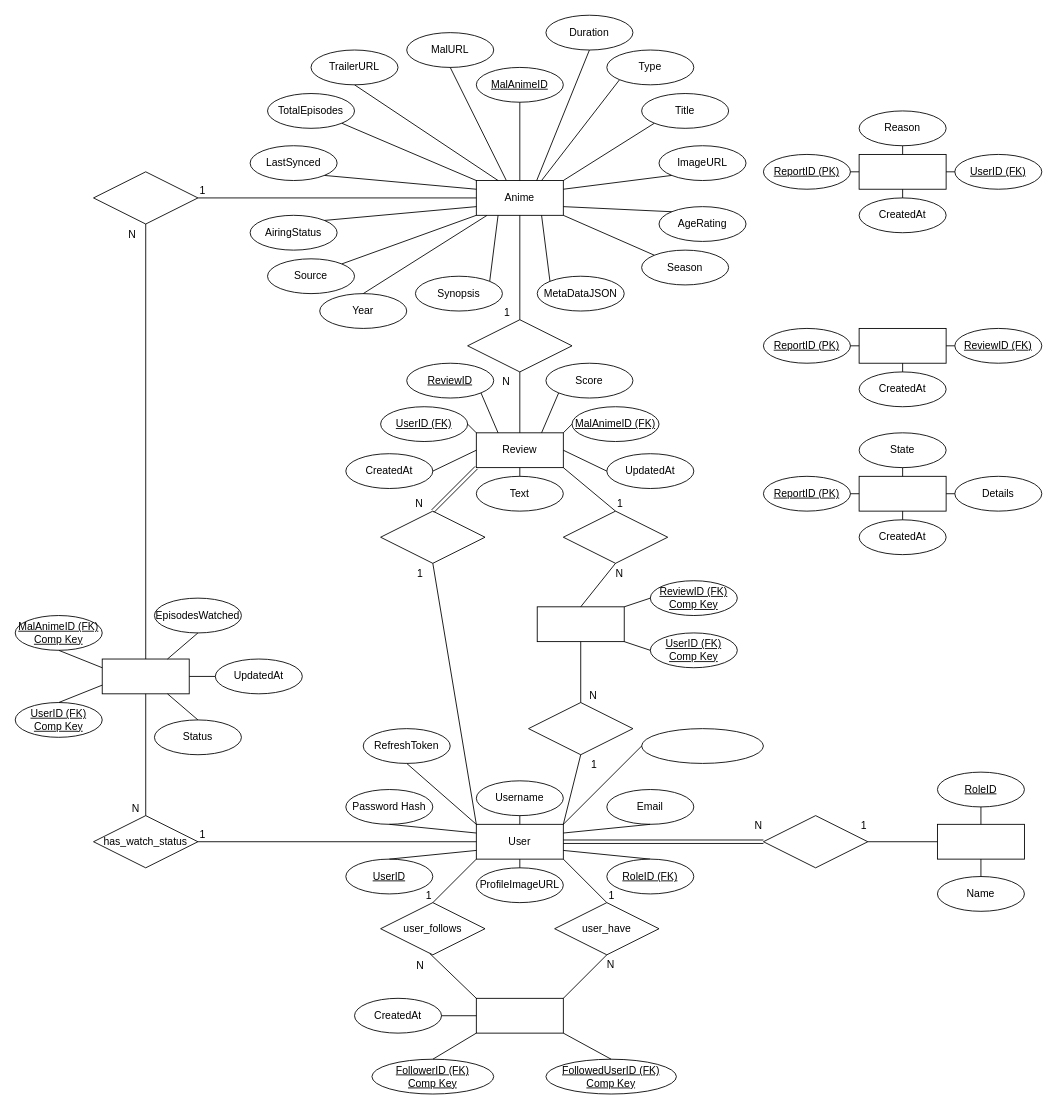
The diagram is 1057 pixels wide and 1109 high, and some of its shapes have lost their labels. The centre of each missing label's shape, as x and y in pixels:
"anime_has_review" goes at [519,345].
"Following" goes at [519,1015].
"has_role" goes at [815,841].
"made_review" goes at [432,536].
"mark_as_helpful" goes at [580,728].
"marked_as_helpful" goes at [615,536].
"RefreshTokenExpiryTime" goes at [702,745].
"ReportedBug" goes at [902,493].
"ReportedReview" goes at [902,345].
"ReportedUser" goes at [902,171].
"ReviewHelpful" goes at [580,624].
"Role" goes at [980,841].
"Watch Status" goes at [145,676].
"watch_status_on" goes at [145,197].
